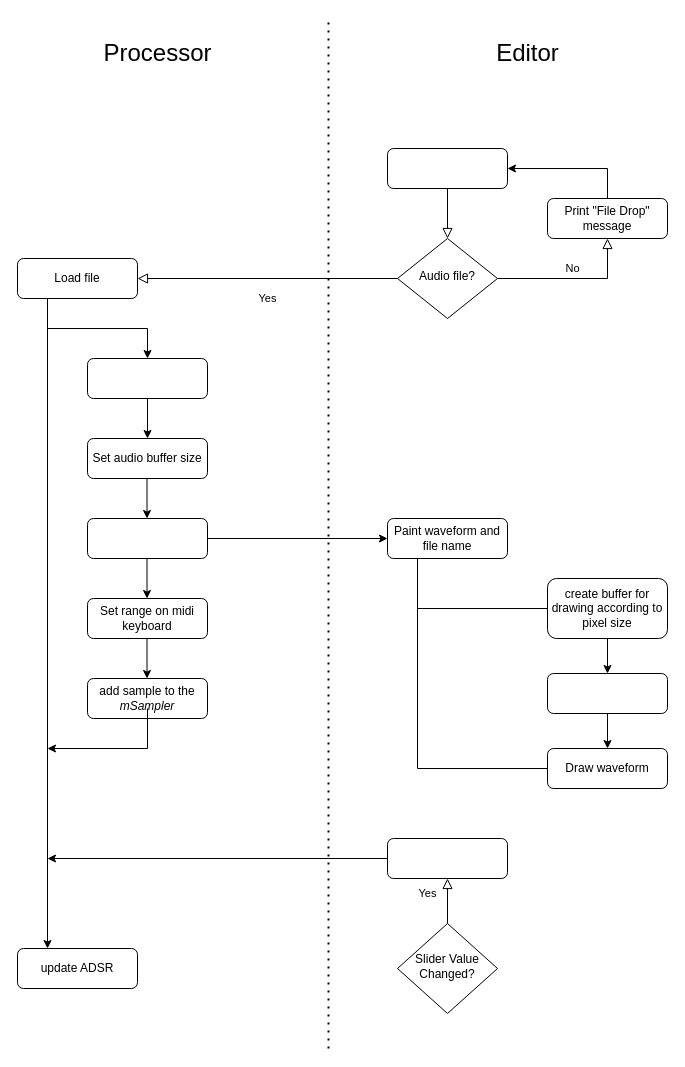
Image size: 685x1067. Some labels were removed from this diagram. Each missing label, with the box of its shape:
A file dropped: (386, 148, 508, 188)
Get Sample Length: (86, 358, 208, 398)
Get slider values: (386, 838, 508, 878)
rescale original waveform: (546, 672, 668, 714)
Store data in buffer mWaveForm: (86, 518, 208, 558)
